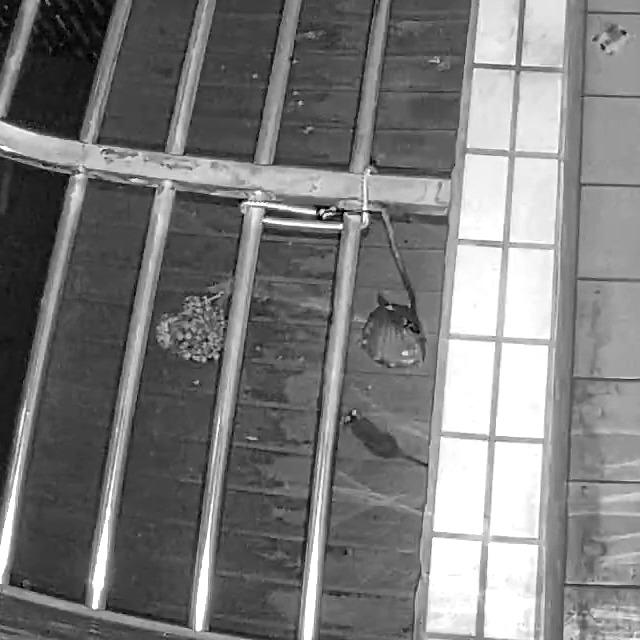rat: (343, 408, 429, 468)
